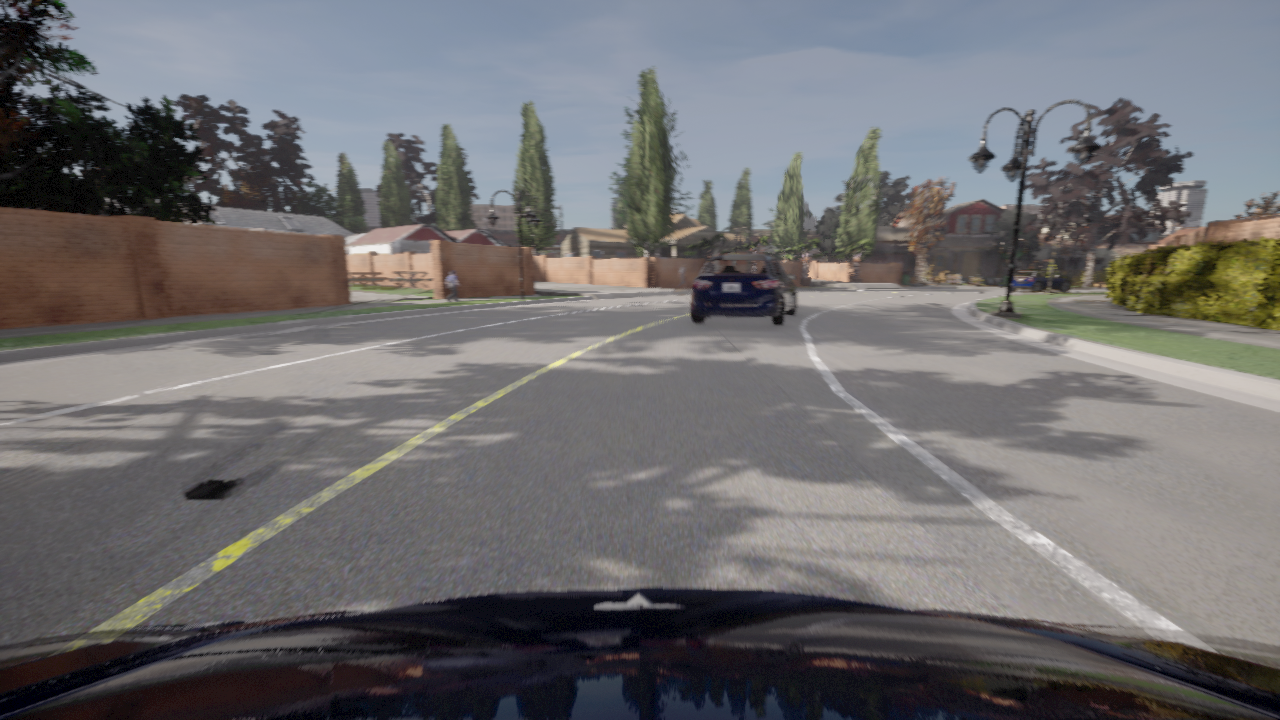cyclist: (0, 588, 1279, 719), (691, 254, 797, 325), (1011, 271, 1070, 291)
pedestrian: (447, 271, 459, 301), (677, 263, 687, 288)
